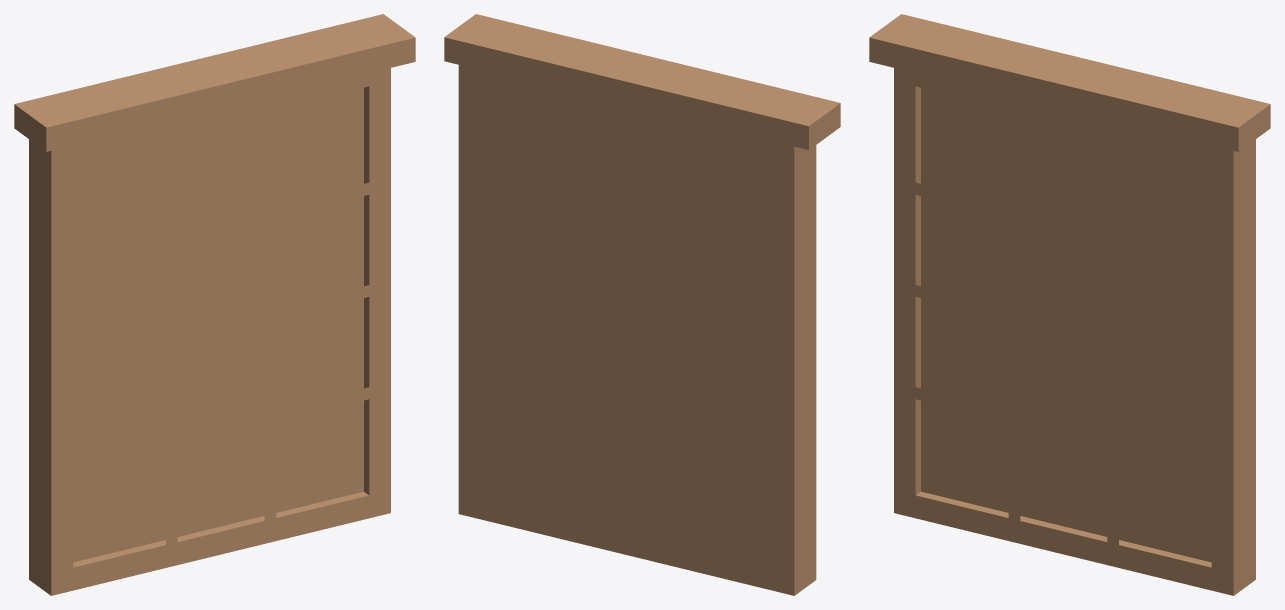
Rendered from Village_Window_B.fbx.
The picture shows the model from 3 angles, left to right: view 1: azimuth 30°, elevation 25°; view 2: azimuth 150°, elevation 25°; view 3: azimuth 330°, elevation 25°; orthographic projection.
Parts seen in each view (by area): view 1: Window_Set_B2; view 2: Window_Set_B2; view 3: Window_Set_B2.
Part boxes in pixels (x1,y1,x2,y2): Window_Set_B2: [14, 14, 415, 595]; Window_Set_B2: [444, 14, 840, 595]; Window_Set_B2: [869, 14, 1270, 595].
Bounding box in the file's own units: 65.19 × 80.83 × 9.85.
